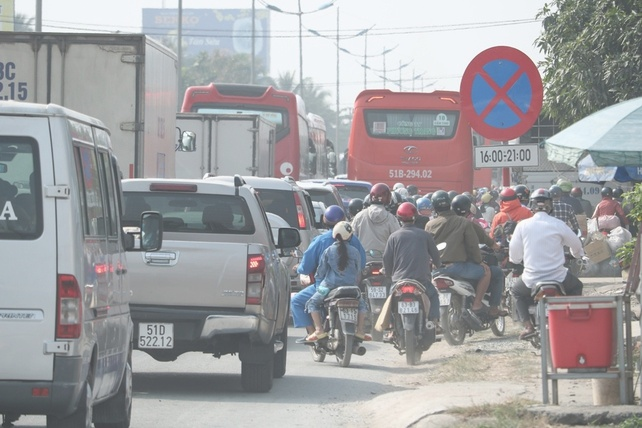Bien-so: (130, 327, 168, 360), (397, 297, 420, 312), (338, 304, 357, 322), (368, 283, 387, 297), (441, 287, 452, 301)
